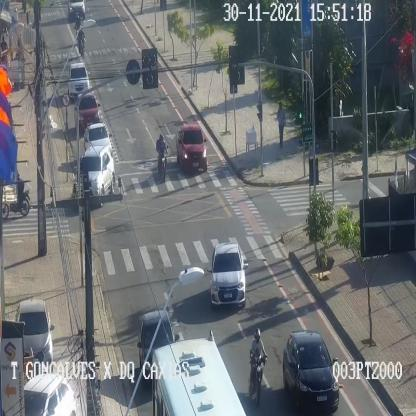bus: (152, 338, 246, 416)
car: (282, 331, 339, 409), (16, 300, 52, 371), (74, 146, 115, 206), (138, 310, 174, 376), (210, 243, 245, 306), (24, 374, 76, 416), (176, 123, 206, 171), (249, 327, 267, 404), (74, 92, 100, 129), (84, 122, 112, 152), (68, 62, 89, 97), (65, 0, 86, 20)
motorbike: (2, 170, 30, 218), (156, 133, 168, 181), (76, 25, 86, 58), (74, 14, 82, 44)
person: (276, 102, 286, 147)
